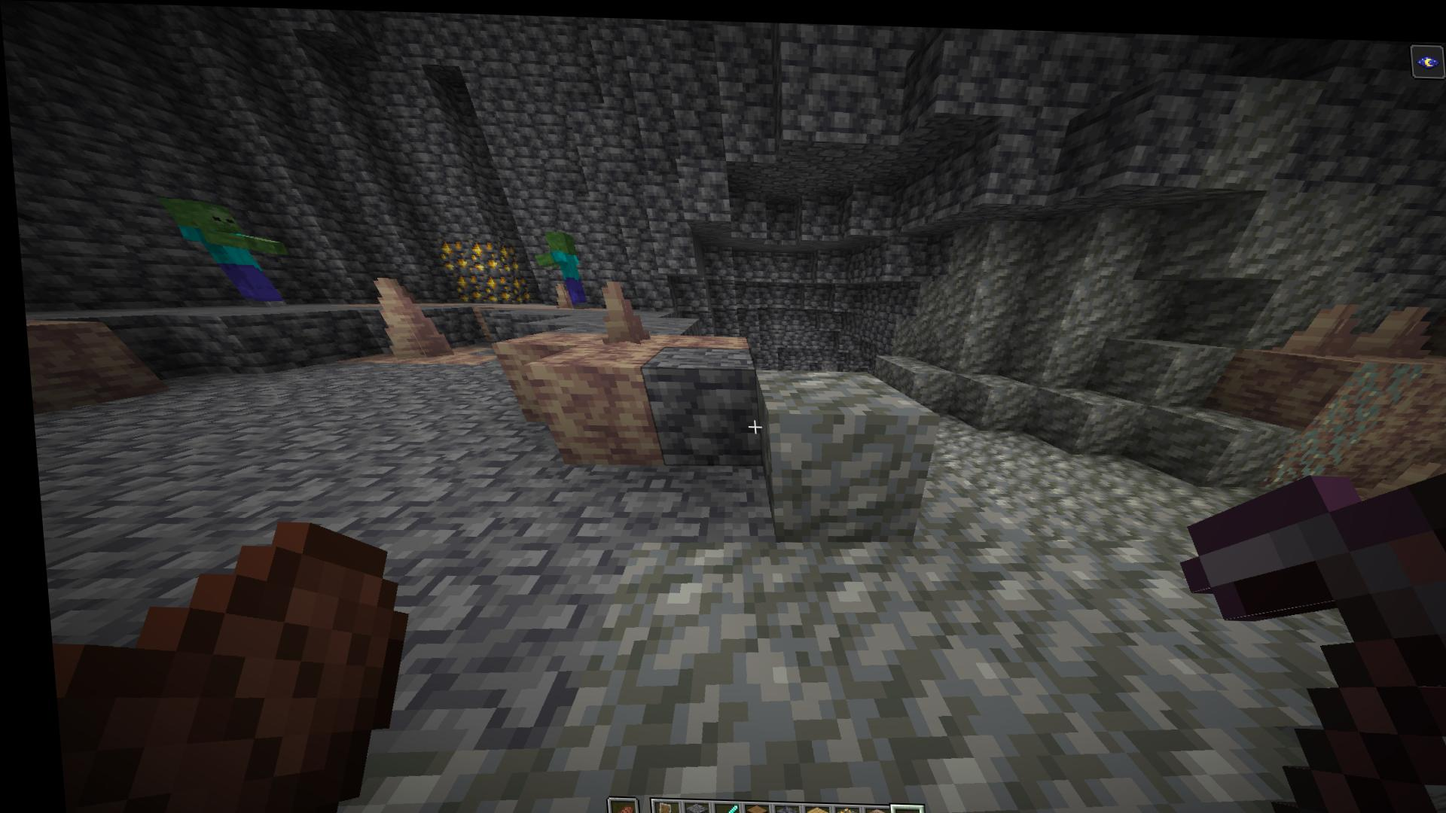gold ore: (430, 238, 522, 276), (447, 270, 531, 302)
